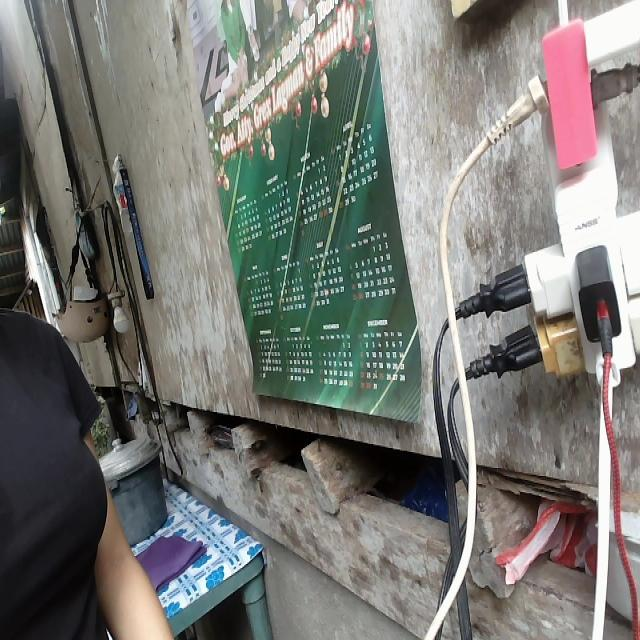-: (429, 3, 639, 496)
